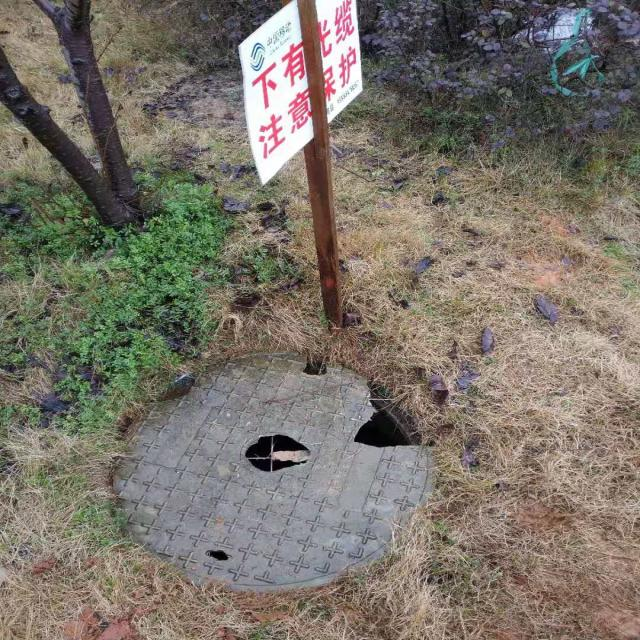Broken: (108, 348, 435, 590)
